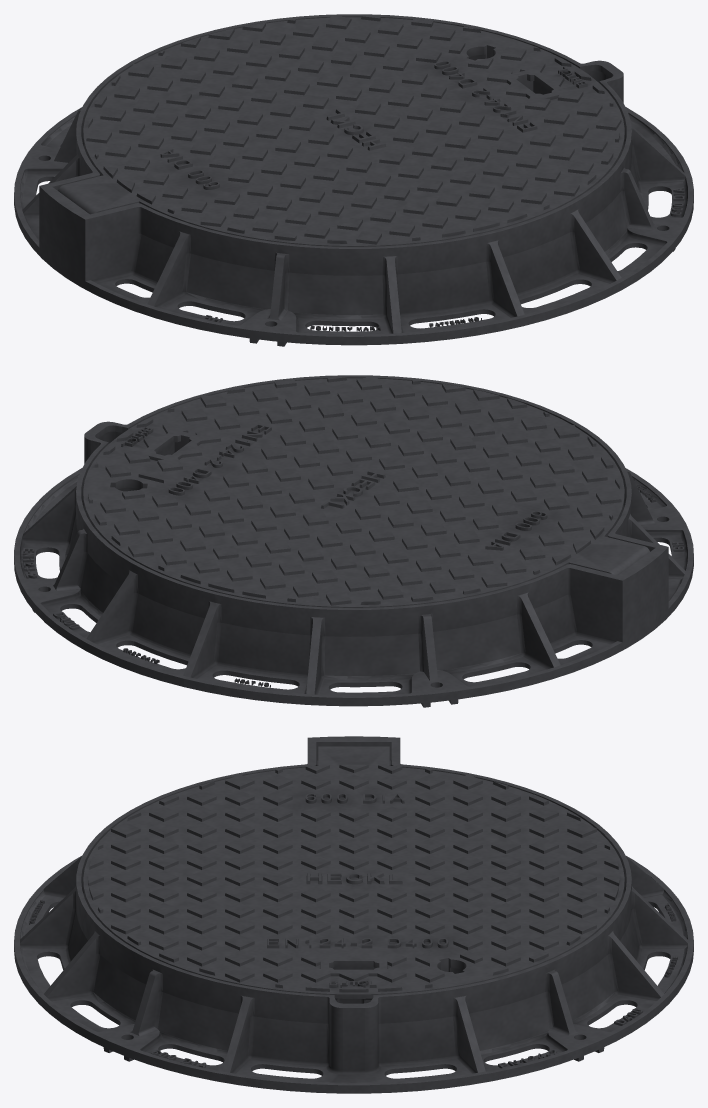
The model's file is cap_black_metal_textured (10).glb.
3 renders of one model, top to bottom at view 1: azimuth 30°, elevation 25°; view 2: azimuth 150°, elevation 25°; view 3: azimuth 270°, elevation 25°, orthographic.
Visible parts, largest first — view 1: GLTF_37, GLTF; view 2: GLTF_37, GLTF; view 3: GLTF_37, GLTF.
Boxes of the visible parts, x1,y1,x2,y2 form: GLTF_37: (58, 15, 624, 246); GLTF: (14, 14, 693, 346); GLTF_37: (83, 376, 649, 607); GLTF: (14, 375, 693, 707); GLTF_37: (83, 746, 624, 1003); GLTF: (14, 736, 693, 1093).
Size of the model in its own units: 0.8097 by 0.104 by 0.81.
Materials: 1 (1 with a texture image).
